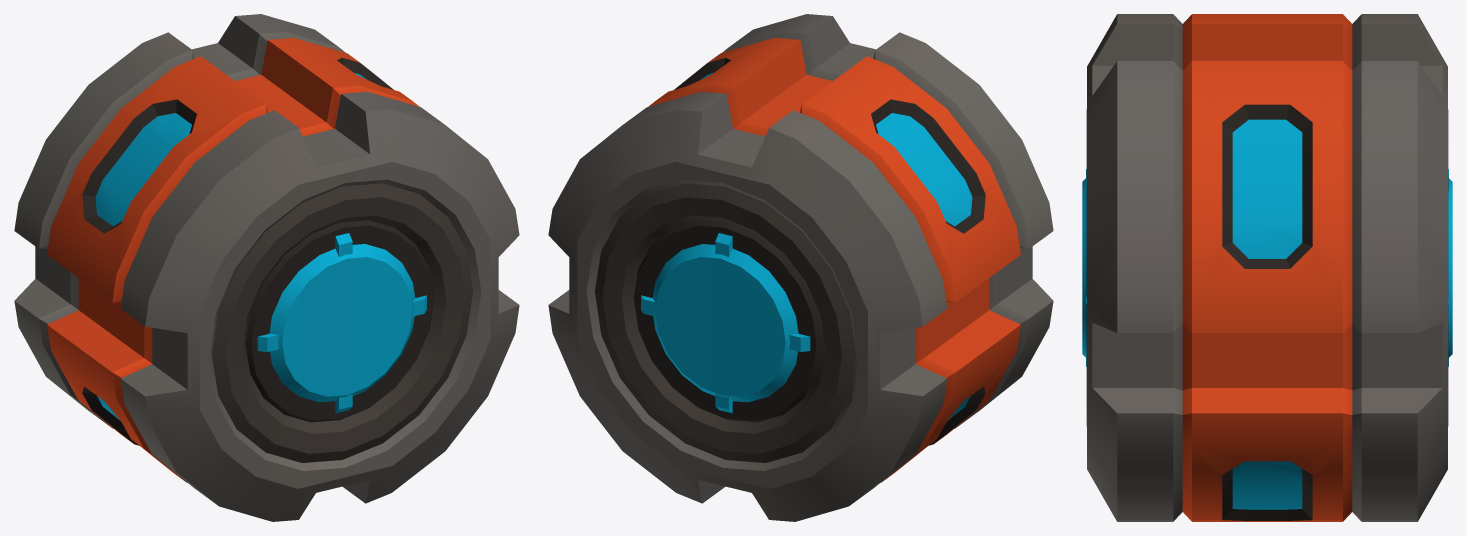
Rendered from SMG9_Magazine.fbx.
3 views of the same model, side by side, from view 1: azimuth 30°, elevation 25°; view 2: azimuth 150°, elevation 25°; view 3: azimuth 270°, elevation 25° (orthographic). The views are drawn at different scales.
Visible parts, largest first — view 1: SMG9_Magazine; view 2: SMG9_Magazine; view 3: SMG9_Magazine.
Part boxes in pixels (bbox=[...]): SMG9_Magazine: bbox=[14, 14, 519, 521]; SMG9_Magazine: bbox=[548, 14, 1053, 521]; SMG9_Magazine: bbox=[1082, 14, 1452, 521].
Bounding box in the file's own units: 6.4 × 6.4 × 4.77.
